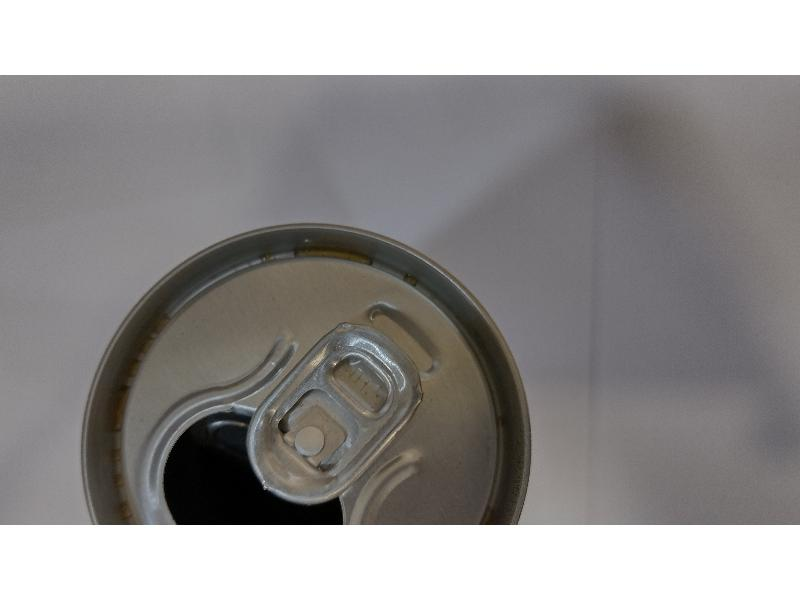can: (73, 214, 537, 522)
